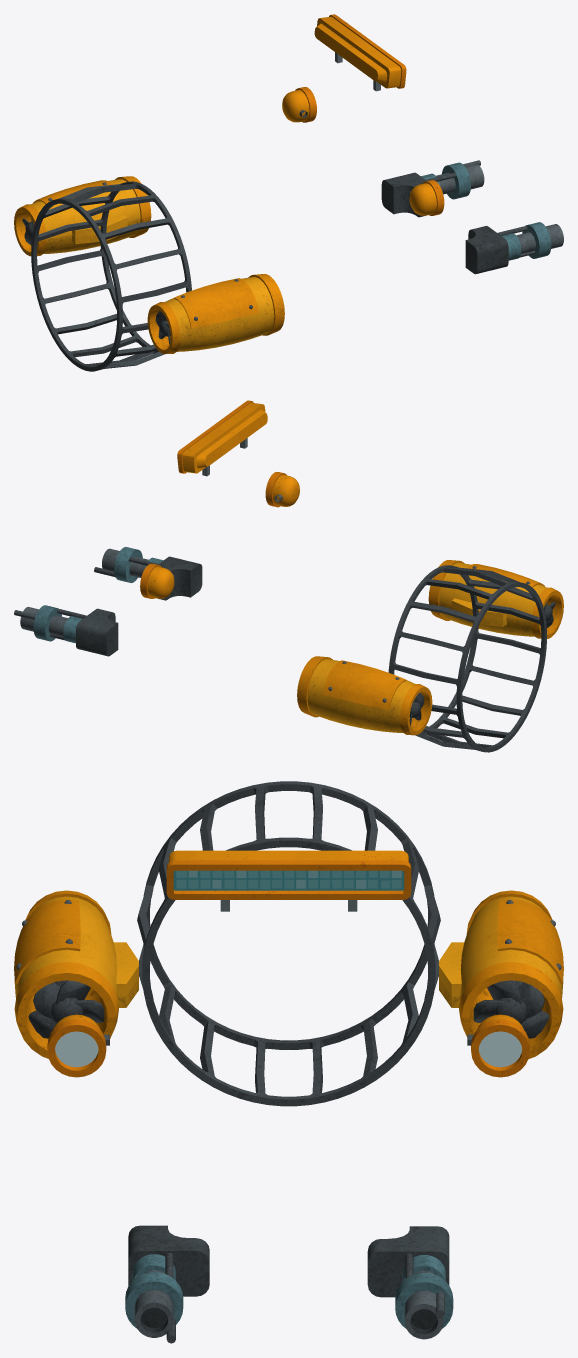
File: Sub00b_Upgrades.fbx
3 renders of one model, top to bottom at view 1: azimuth 30°, elevation 25°; view 2: azimuth 150°, elevation 25°; view 3: azimuth 270°, elevation 25°, orthographic. The views are drawn at different scales.
Visible parts, largest first — view 1: Boosters00, WeedGaurd00, IceBreaker00, Scanner00, Lights00; view 2: Boosters00, WeedGaurd00, IceBreaker00, Scanner00, Lights00; view 3: Boosters00, WeedGaurd00, IceBreaker00, Scanner00, Lights00, BoosterInside_L.001, BoosterInside_R.001.
Part boxes in pixels (x1,y1,x2,y2): Boosters00: (14,176,284,353); WeedGaurd00: (31,181,191,371); IceBreaker00: (381,160,563,274); Scanner00: (314,14,406,91); Lights00: (282,87,444,215); Boosters00: (297,560,563,735); WeedGaurd00: (388,565,546,752); IceBreaker00: (14,547,202,656); Scanner00: (177,400,267,476); Lights00: (140,472,299,598); Boosters00: (14,890,563,1059); WeedGaurd00: (137,781,440,1106); IceBreaker00: (125,1225,453,1343); Scanner00: (166,850,411,911); Lights00: (47,1014,529,1077); BoosterInside_L.001: (473,980,549,1038); BoosterInside_R.001: (28,980,104,1038).
Bounding box in the file's own units: 3.7 × 2.02 × 2.35.
